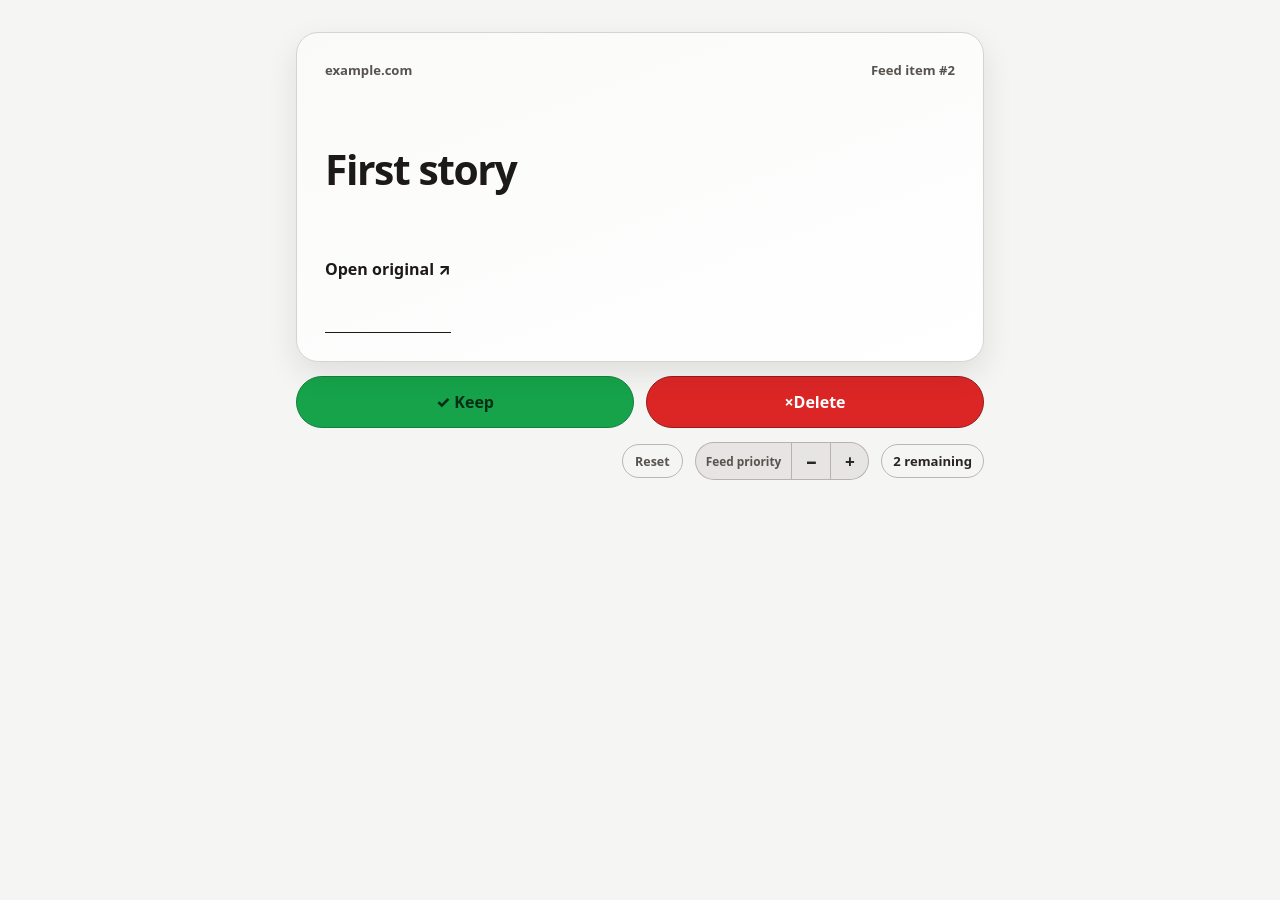
Scenario: ReaderPage fullscreen › keeps fullscreen active when keeping the current item
This screenshot has width=1280, height=900.
Expected: the heading "First story" is shown, [325,141,516,197]
Press f
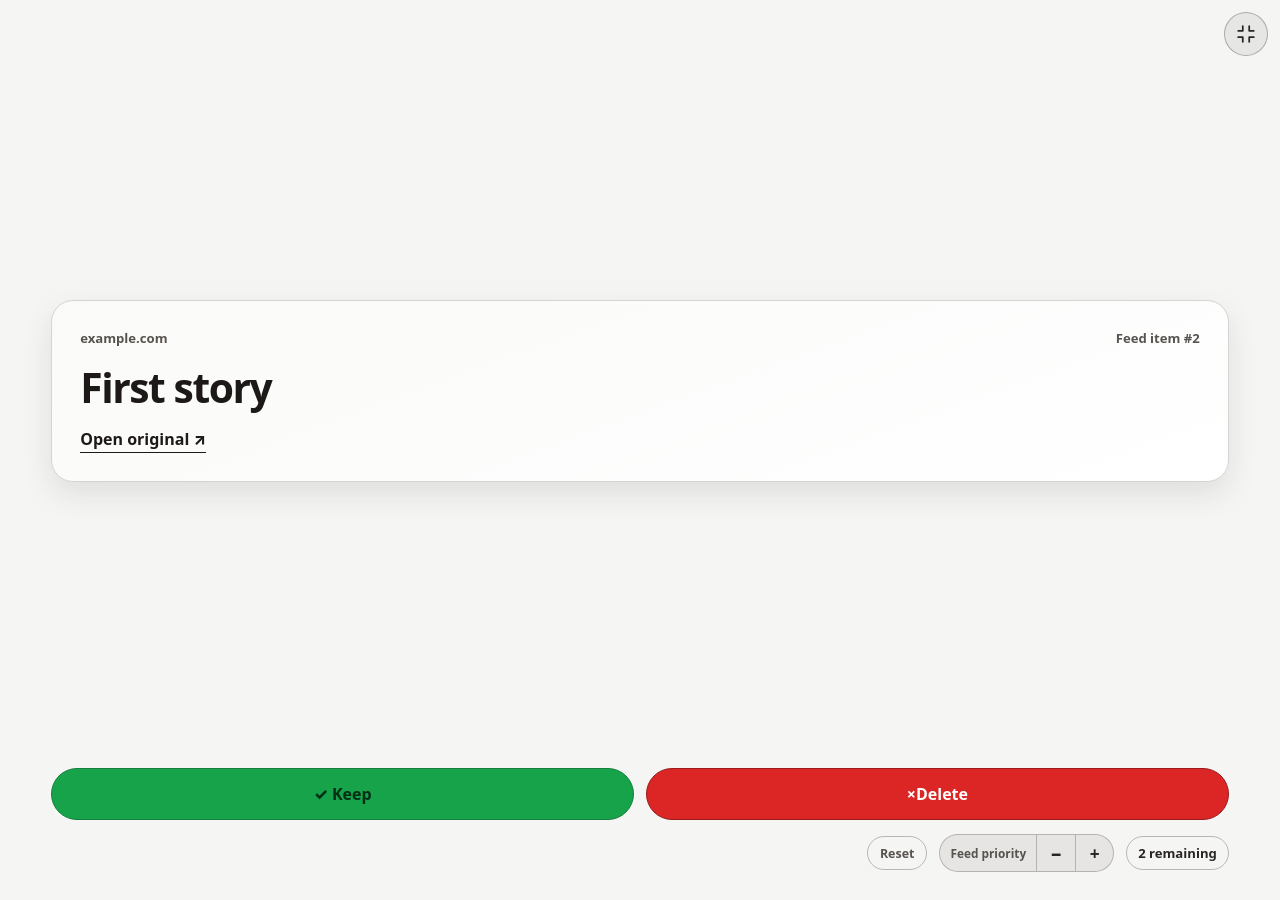
Click the button "✓ Keep": (343, 794) [51,768,634,820]
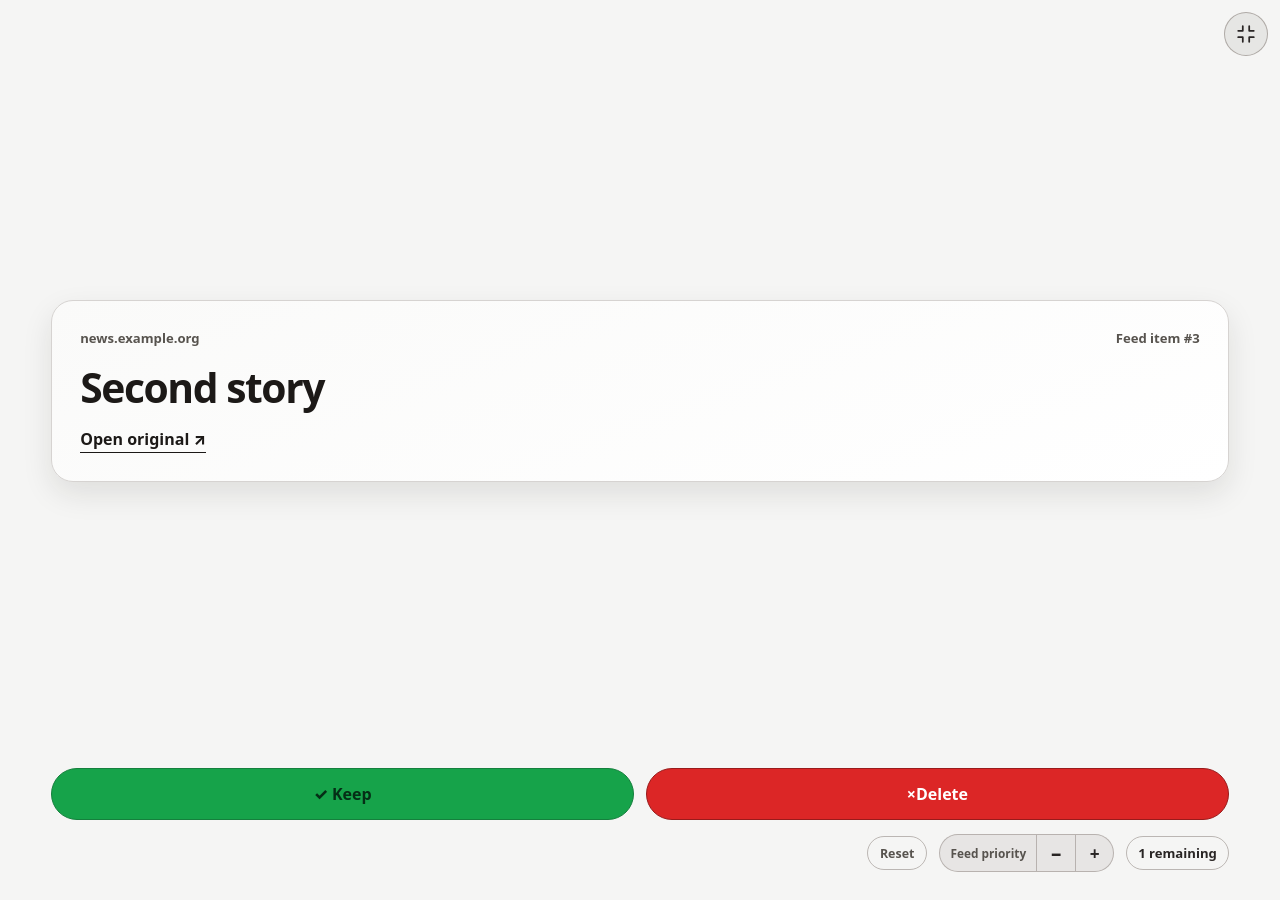
Expected: the button named "Exit Reader fullscreen" is shown, [1224,12,1268,56]
Expected: the heading "Second story" is shown, [80,360,324,416]
